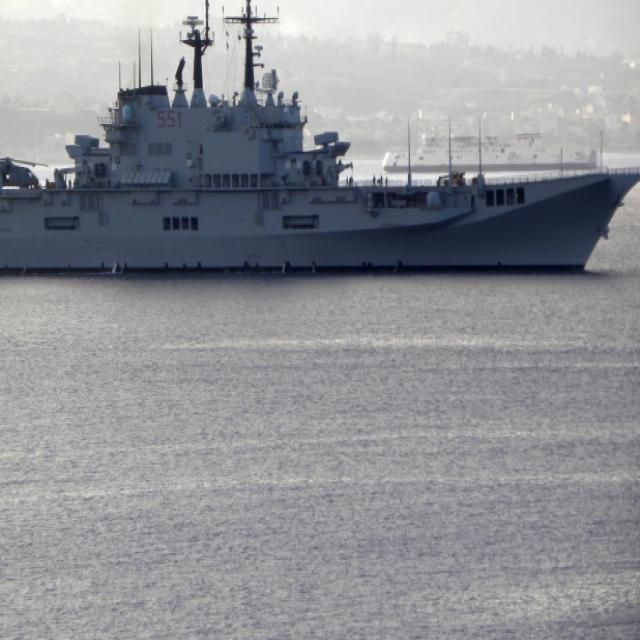Portanaves: (1, 1, 640, 289)
